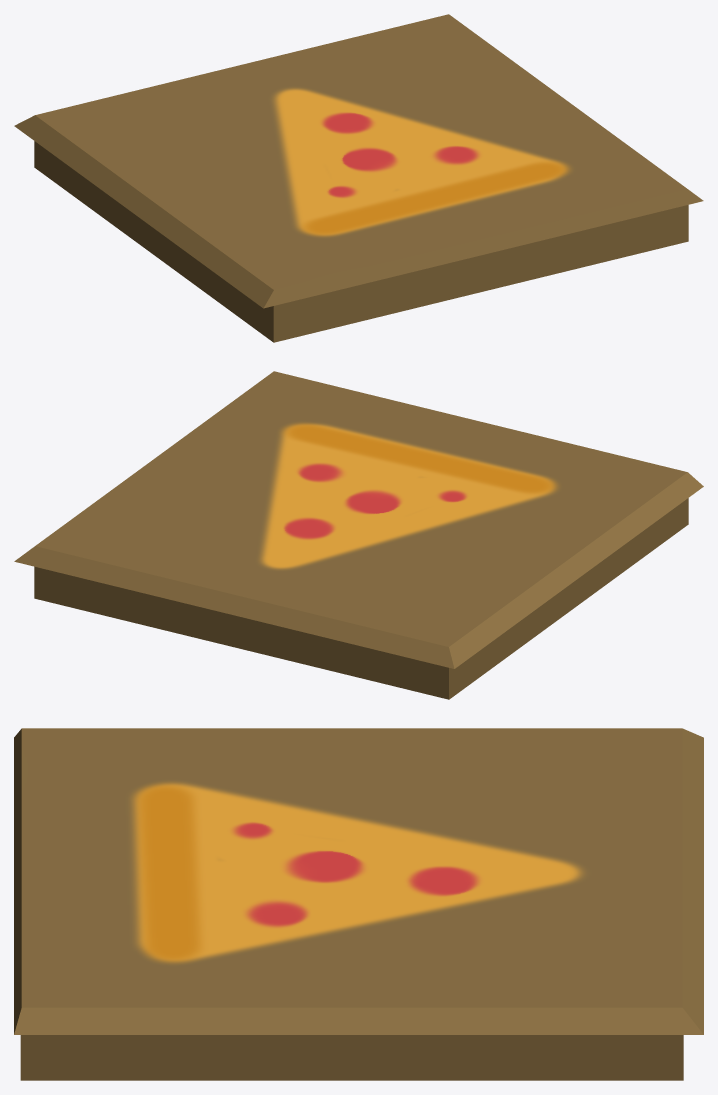
The model's file is paper_2.glb.
3 renders of one model, top to bottom at view 1: azimuth 30°, elevation 25°; view 2: azimuth 150°, elevation 25°; view 3: azimuth 270°, elevation 25°, orthographic. The views are drawn at different scales.
Parts seen in each view (by area): view 1: Plane; view 2: Plane; view 3: Plane.
Part boxes in pixels (left/top/right/bottom): Plane: left=14, top=14, right=703, bottom=342; Plane: left=14, top=371, right=703, bottom=699; Plane: left=14, top=728, right=703, bottom=1080.
Size of what is drawn, in the model's own units: 0.9474 by 0.1075 by 0.929.
1 material, 1 textured.
